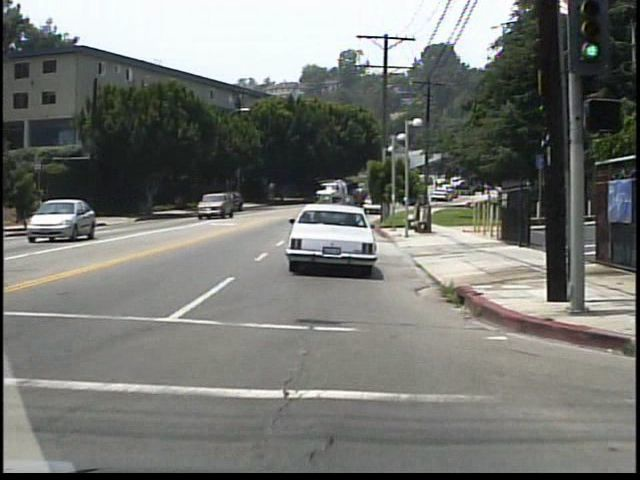person: (52, 200, 65, 228)
